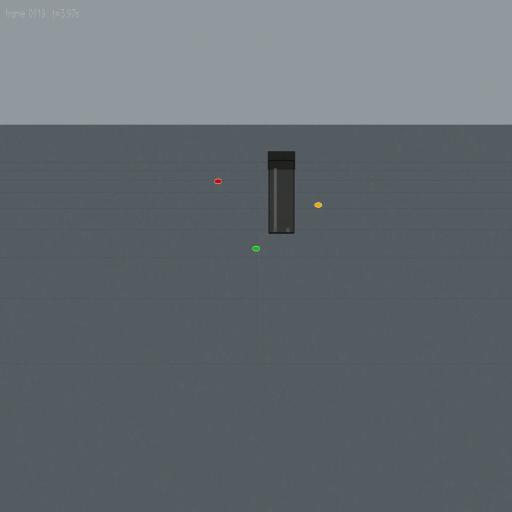bin: (267, 150, 296, 235)
